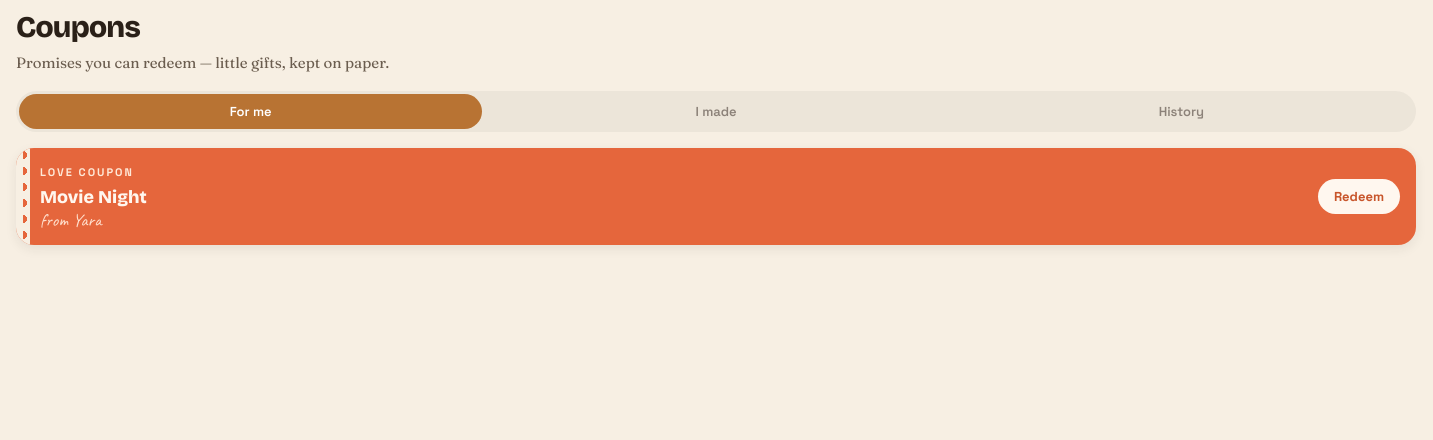
CouponWalletPage › shows the History empty state when nothing has been redeemed
Click the button "History": {"x": 1181, "y": 111} [950,94,1413,129]
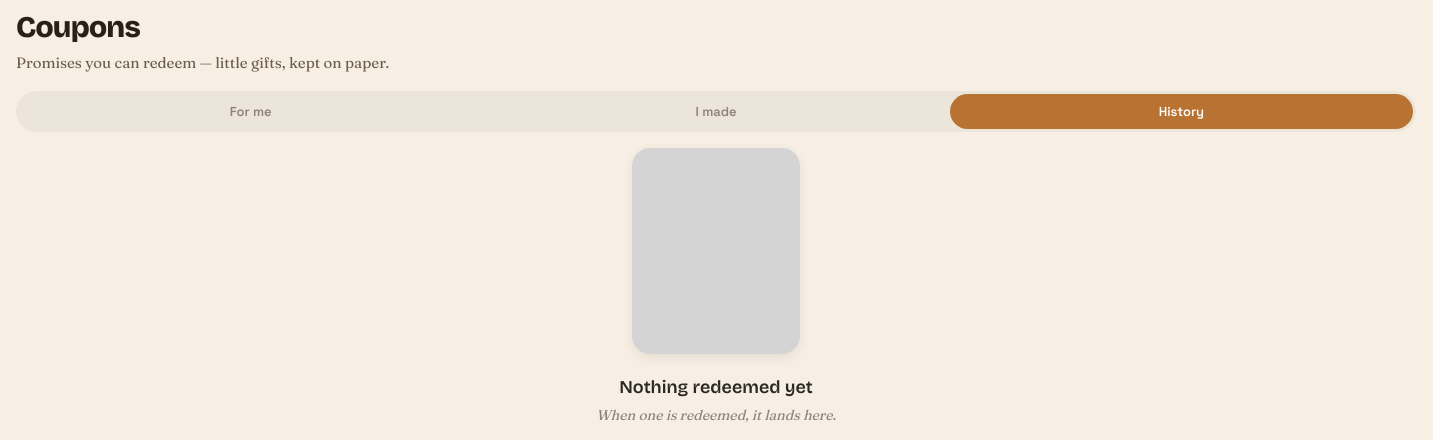
Now the heading "Nothing redeemed yet" is shown, box [619,374,813,401]
